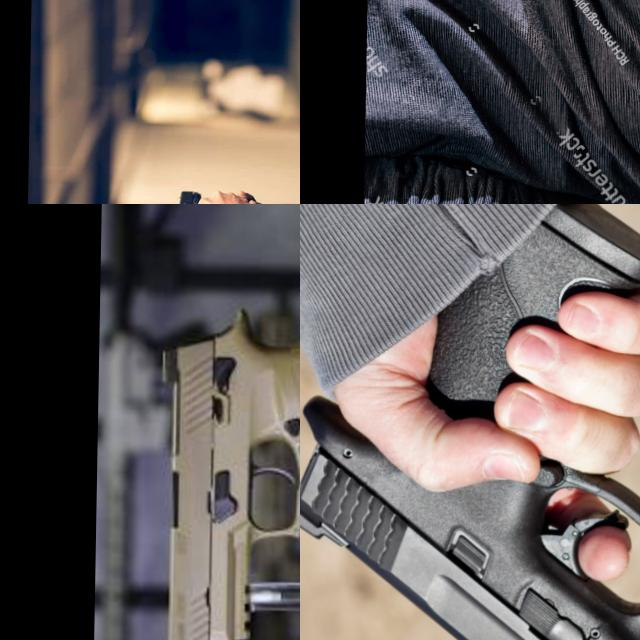handgun: (300, 204, 640, 640), (152, 300, 300, 640), (169, 186, 202, 204)
